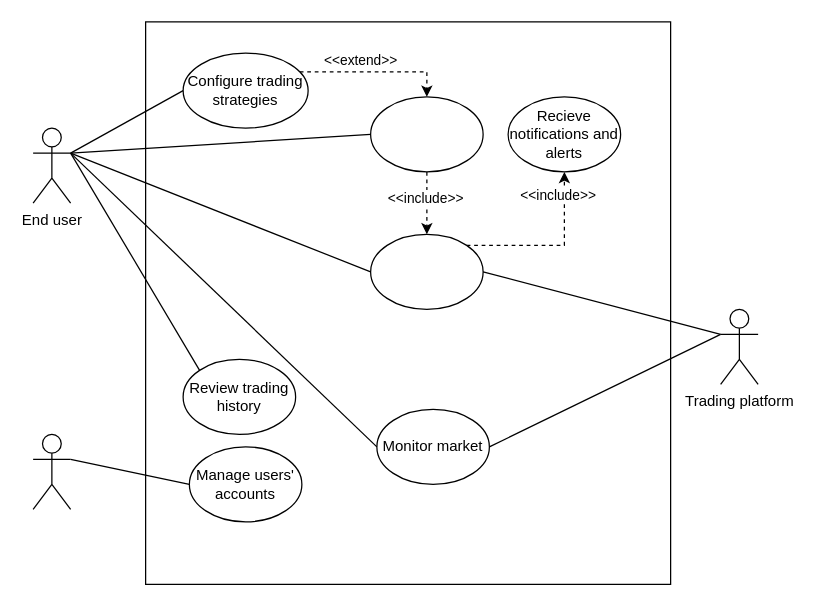
The diagram is 815 pixels wide and 606 high, and some of its shapes have lost their labels. Each missing label, with the centre of its shape:
Admin: pixel 51 471
Execute Trades: pixel 426 271
Toggle Bot Trading: pixel 426 134
